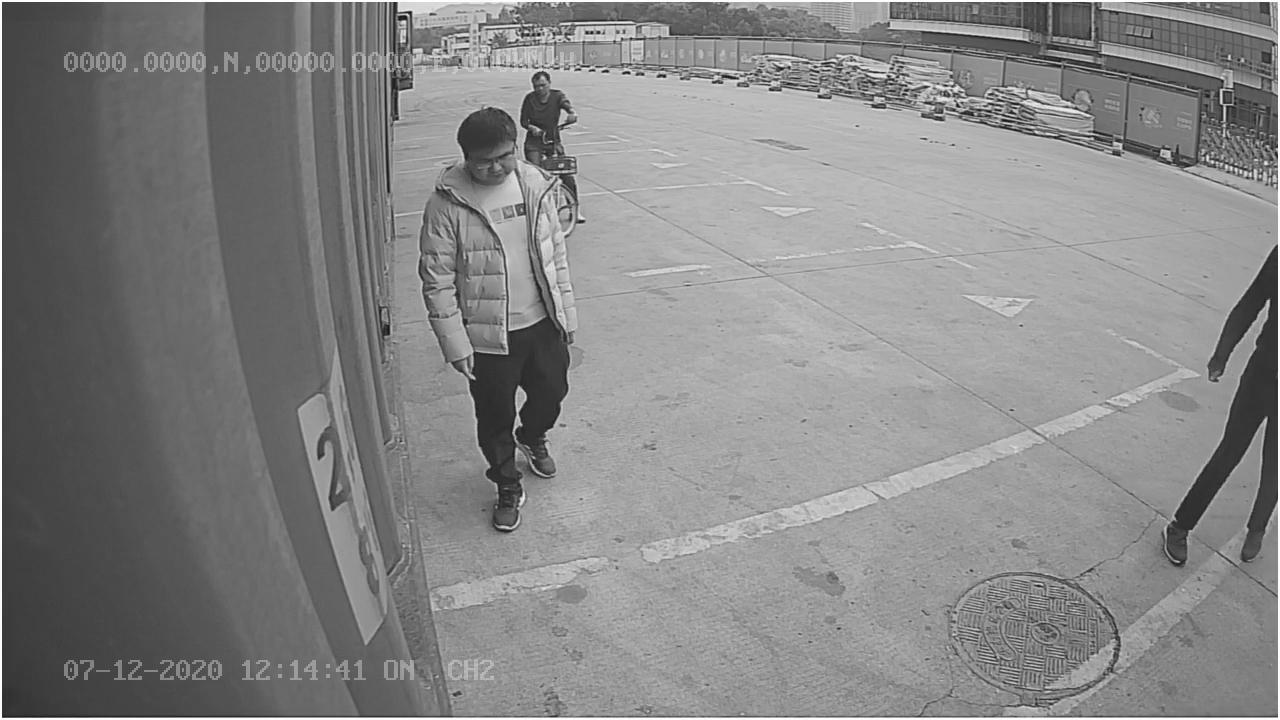person: (419, 107, 576, 530)
